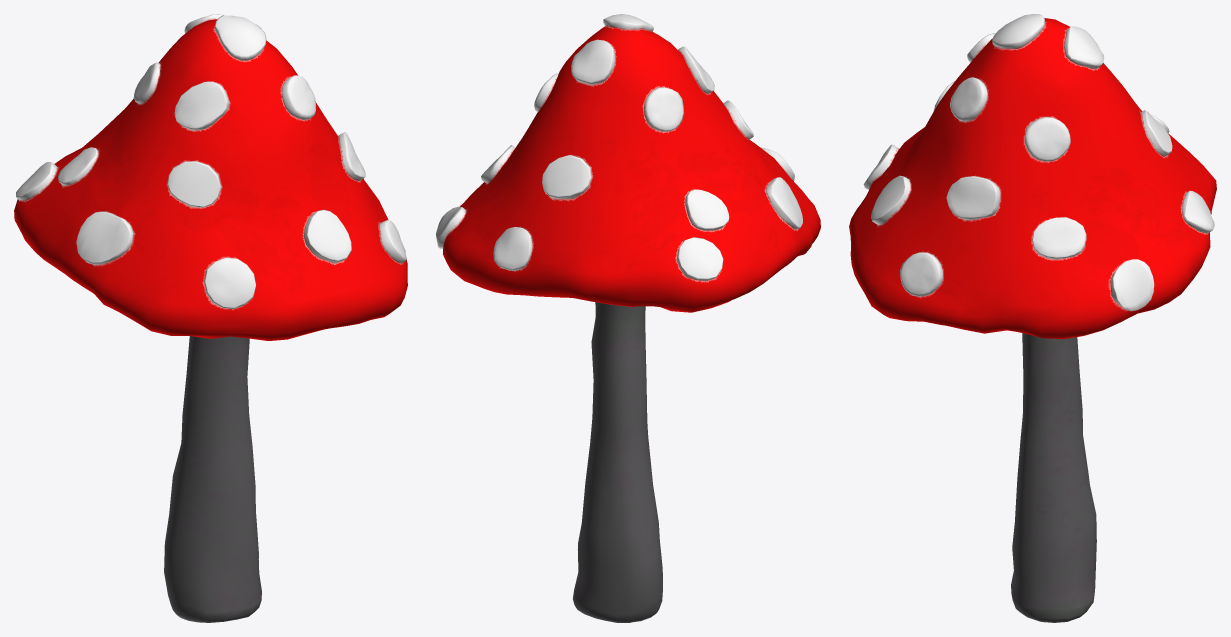
The model's file is Mushroom.fbx.
The picture shows the model from 3 angles, left to right: view 1: azimuth 30°, elevation 25°; view 2: azimuth 150°, elevation 25°; view 3: azimuth 270°, elevation 25°; orthographic projection. The views are drawn at different scales.
Visible parts, largest first — view 1: mesh_id19; view 2: mesh_id19; view 3: mesh_id19.
Part boxes in pixels (bbox=[...]): mesh_id19: bbox=[14, 14, 407, 622]; mesh_id19: bbox=[436, 14, 820, 622]; mesh_id19: bbox=[849, 14, 1216, 622].
Size of the model in its own units: 56.98 by 100 by 56.34.
1 material, 1 textured.
